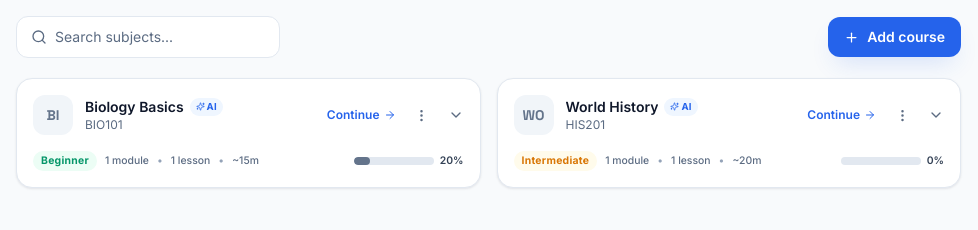
Test: LearningHubPage search › filters by subject name case-insensitively
In the field with placeholder "Search subjects...": (160, 37) [55,27,265,47], type "biology"
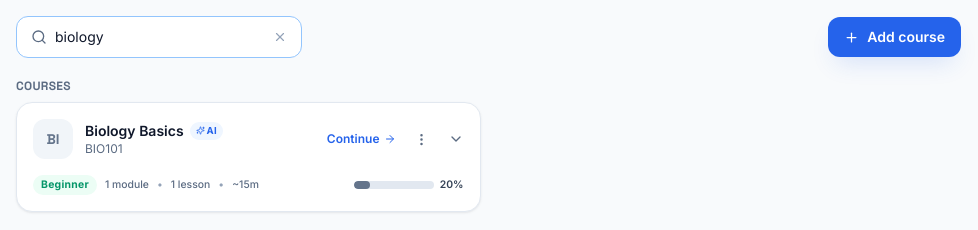
Expected: the text "Biology Basics" is shown, [85,121,184,141]
Expected: the button "World History" is gone
